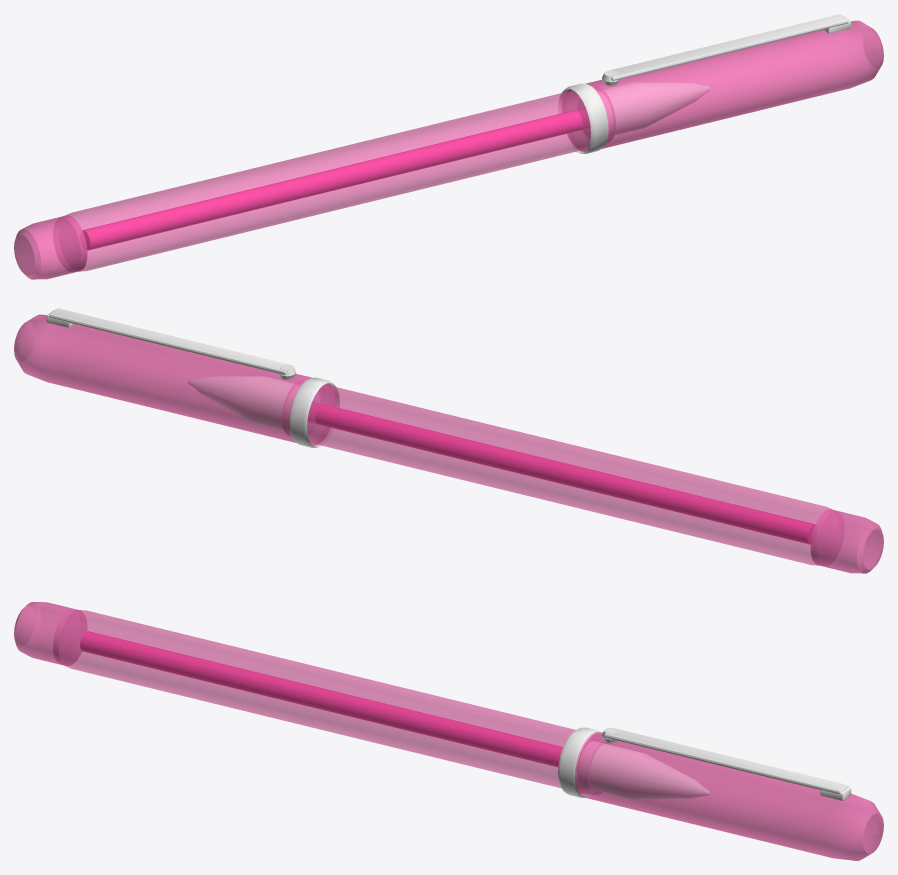
Rendered from SM_GelPen.glb.
3 renders of one model, top to bottom at view 1: azimuth 30°, elevation 25°; view 2: azimuth 150°, elevation 25°; view 3: azimuth 330°, elevation 25°, orthographic.
Visible parts, largest first — view 1: SM_GelPen; view 2: SM_GelPen; view 3: SM_GelPen.
Boxes of the visible parts, x1,y1,x2,y2 form: SM_GelPen: (14, 14, 883, 279); SM_GelPen: (14, 308, 883, 573); SM_GelPen: (14, 602, 883, 860).
Bounding box in the file's own units: 0.14 × 0.0111 × 0.0099.
